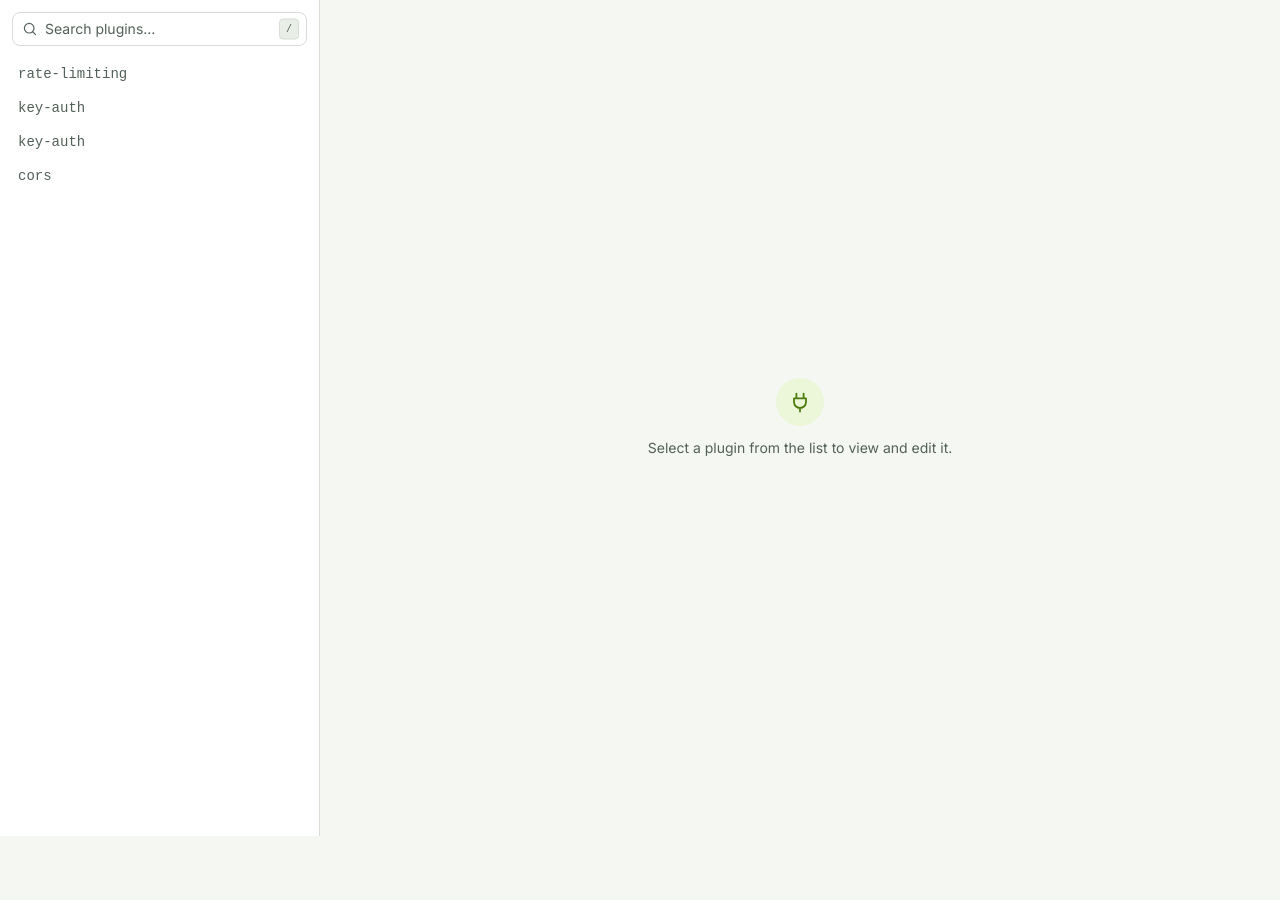
Test: FilePluginsView › with a file loaded › shows the editor, and where the plugin applies, for the chosen plugin
Click the list item with test id "file-row" at coordinates (52, 142), box x1=18 y1=134 x2=85 y2=150
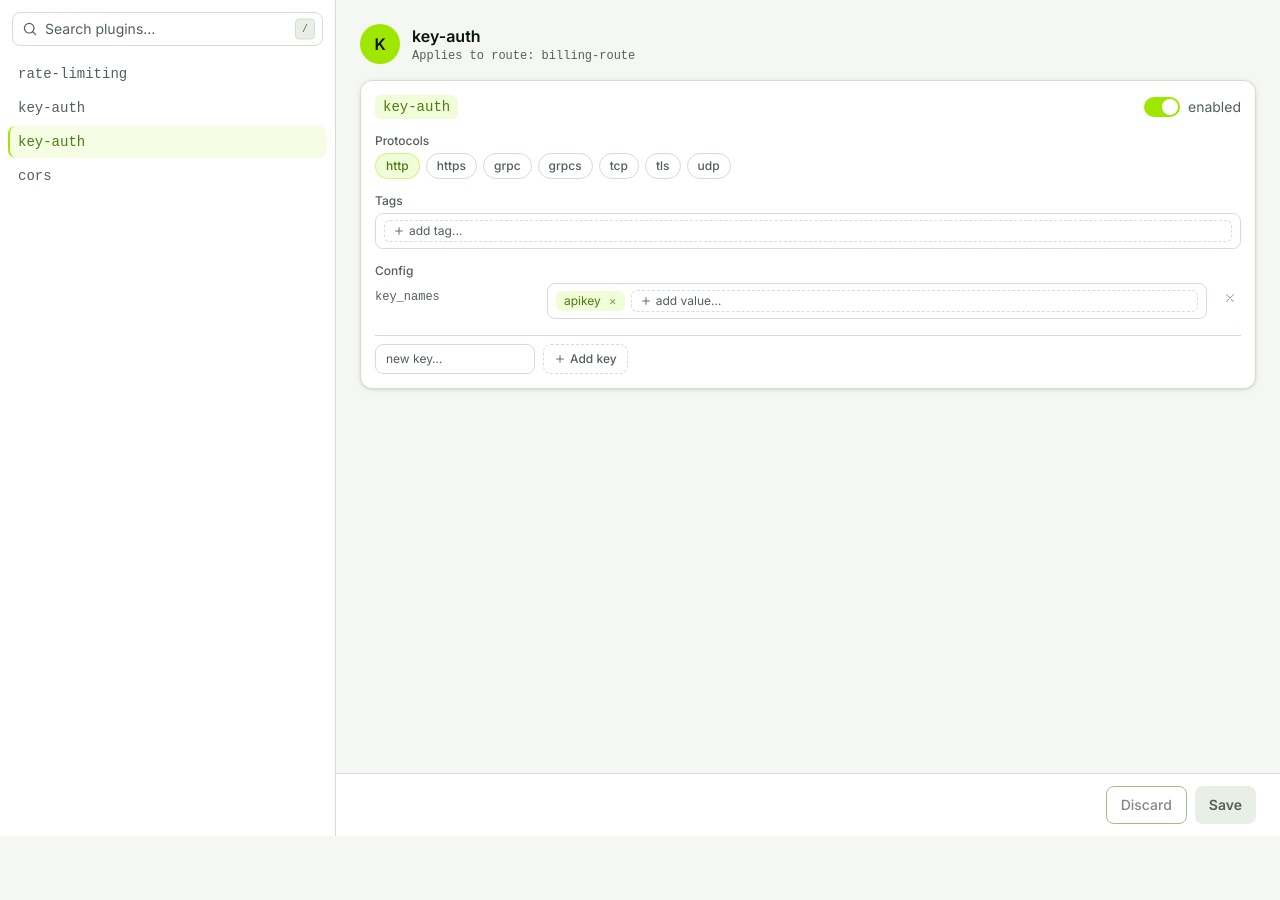
Expected: the field with placeholder "Search plugins…" is shown, x1=12 y1=12 x2=323 y2=46
Result: the text "Applies to route: billing-route" is shown at x1=412 y1=48 x2=635 y2=64
